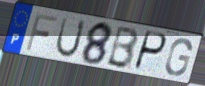8: (81, 20, 114, 67)
B: (105, 25, 140, 70)
F: (24, 12, 59, 52)
G: (163, 38, 193, 78)
P: (132, 30, 169, 73)
U: (53, 15, 87, 59)
